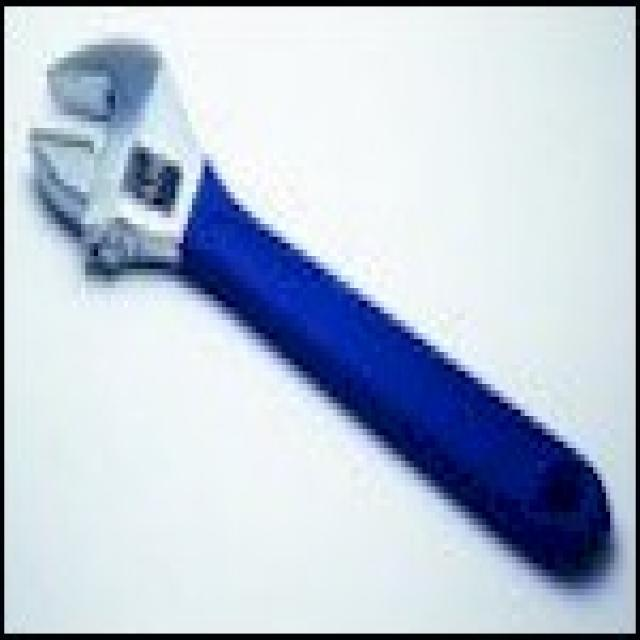wrench: (19, 28, 624, 592)
